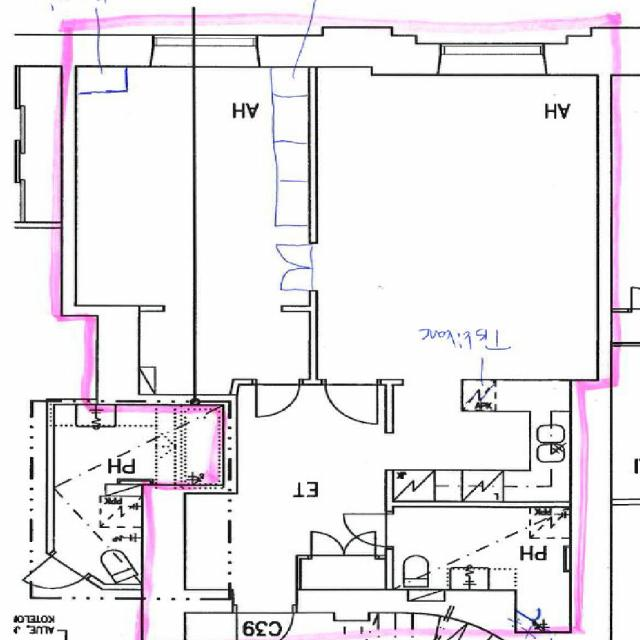door: (326, 379, 376, 424), (236, 604, 294, 640), (342, 514, 393, 547), (256, 379, 299, 418), (278, 244, 318, 268), (278, 268, 318, 291), (311, 531, 343, 559), (343, 531, 375, 559)
